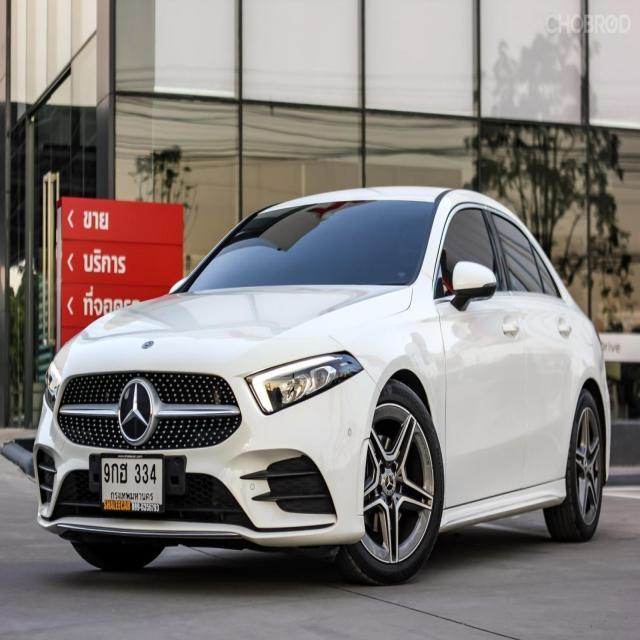license_plate: (97, 454, 164, 512)
